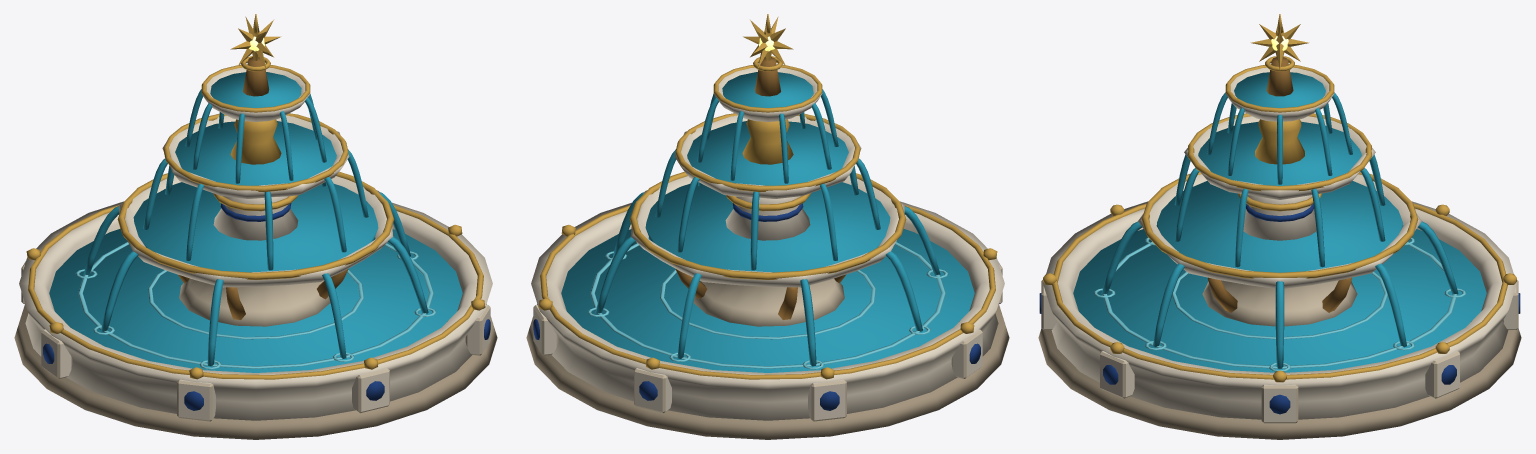
The model's file is landmark_grand_fountain.glb.
3 renders of one model, left to right at view 1: azimuth 30°, elevation 25°; view 2: azimuth 150°, elevation 25°; view 3: azimuth 270°, elevation 25°, orthographic.
Parts seen in each view (by area): view 1: landmark_grand_fountain; view 2: landmark_grand_fountain; view 3: landmark_grand_fountain.
Boxes of the visible parts, <box> form: landmark_grand_fountain: <box>14,14,497,439</box>; landmark_grand_fountain: <box>526,14,1009,439</box>; landmark_grand_fountain: <box>1038,14,1521,439</box>.
Size of the model in its own units: 8.4 by 6.21 by 8.4.
